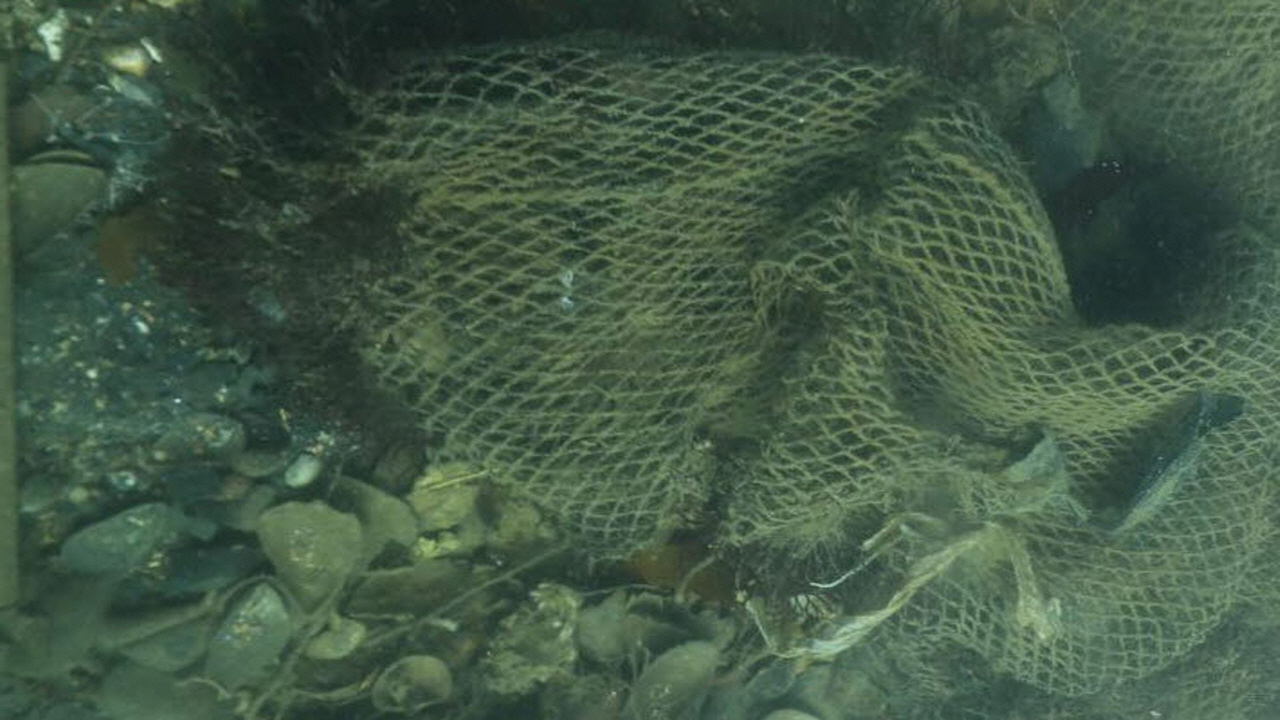fish net: (323, 0, 1280, 720)
